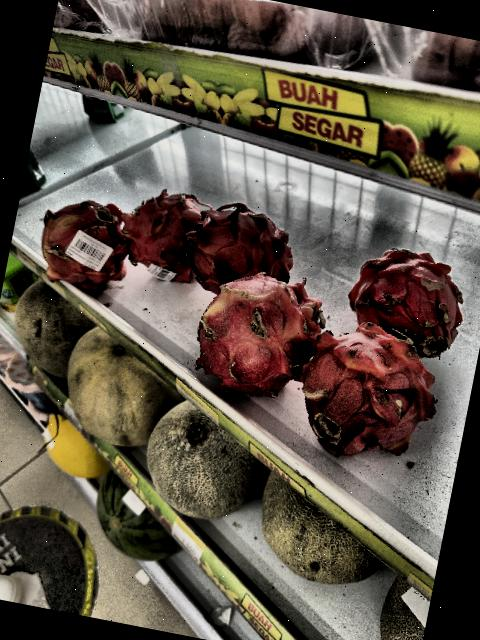buah-naga-belum-matang: (182, 264, 324, 406), (21, 186, 138, 300)
buah-naga-matang: (283, 298, 455, 484), (334, 232, 478, 365), (175, 185, 311, 307), (117, 182, 212, 290)
